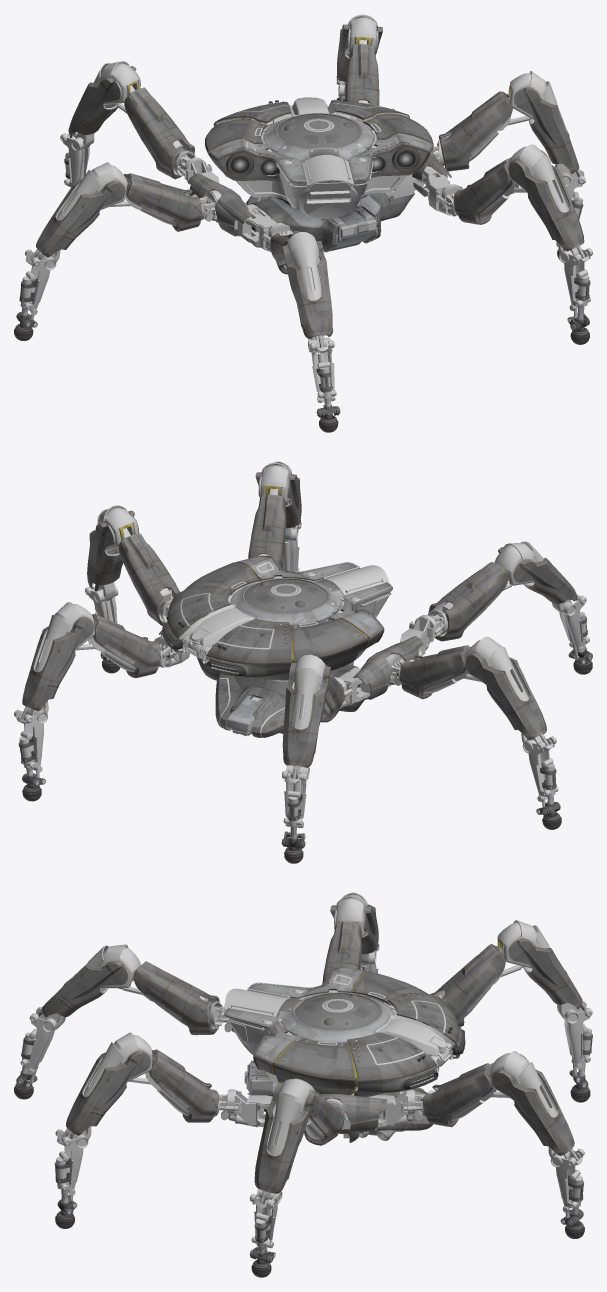
File: queen.obj
3 views of the same model, one above another, from view 1: azimuth 30°, elevation 25°; view 2: azimuth 150°, elevation 25°; view 3: azimuth 270°, elevation 25° (orthographic). The views are drawn at different scales.
Parts seen in each view (by area): view 1: Queen; view 2: Queen; view 3: Queen.
Boxes of the visible parts, bbox=[...] form: Queen: bbox=[14, 14, 592, 432]; Queen: bbox=[14, 461, 592, 863]; Queen: bbox=[14, 892, 592, 1277].
Bounding box in the file's own units: 273 × 93.86 × 255.
